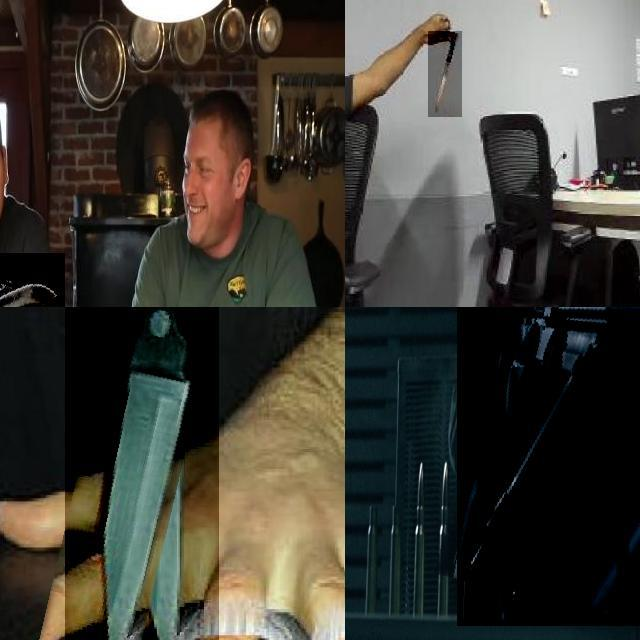-: (64, 307, 219, 640), (0, 253, 65, 307), (428, 31, 462, 117)
gun-knife-thesis - v11 Yolov5 augmented: (457, 307, 640, 625)
